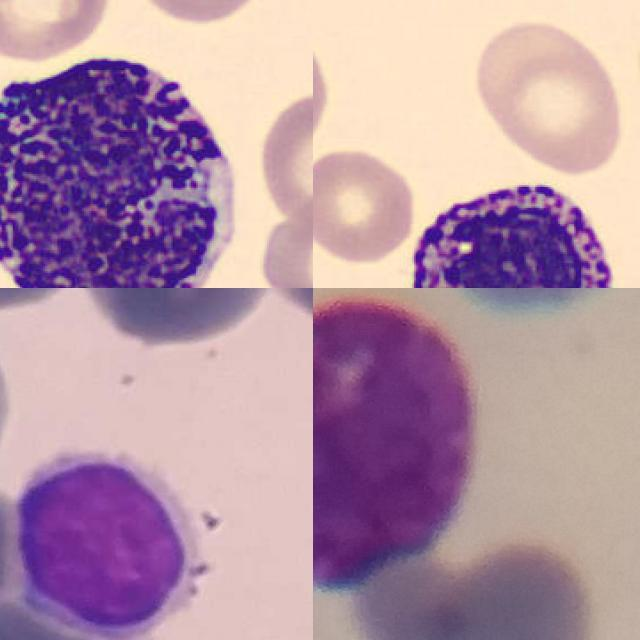Basophil: (0, 31, 247, 288), (313, 295, 474, 594), (394, 164, 627, 288)
Lymphocyte: (16, 450, 205, 639)
RBC: (469, 14, 631, 178), (313, 142, 419, 266), (252, 82, 313, 230), (0, 0, 112, 64), (254, 191, 313, 288), (132, 0, 267, 31)
